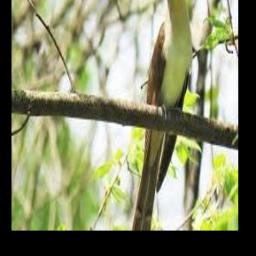Cuckoo: (131, 0, 192, 231)
